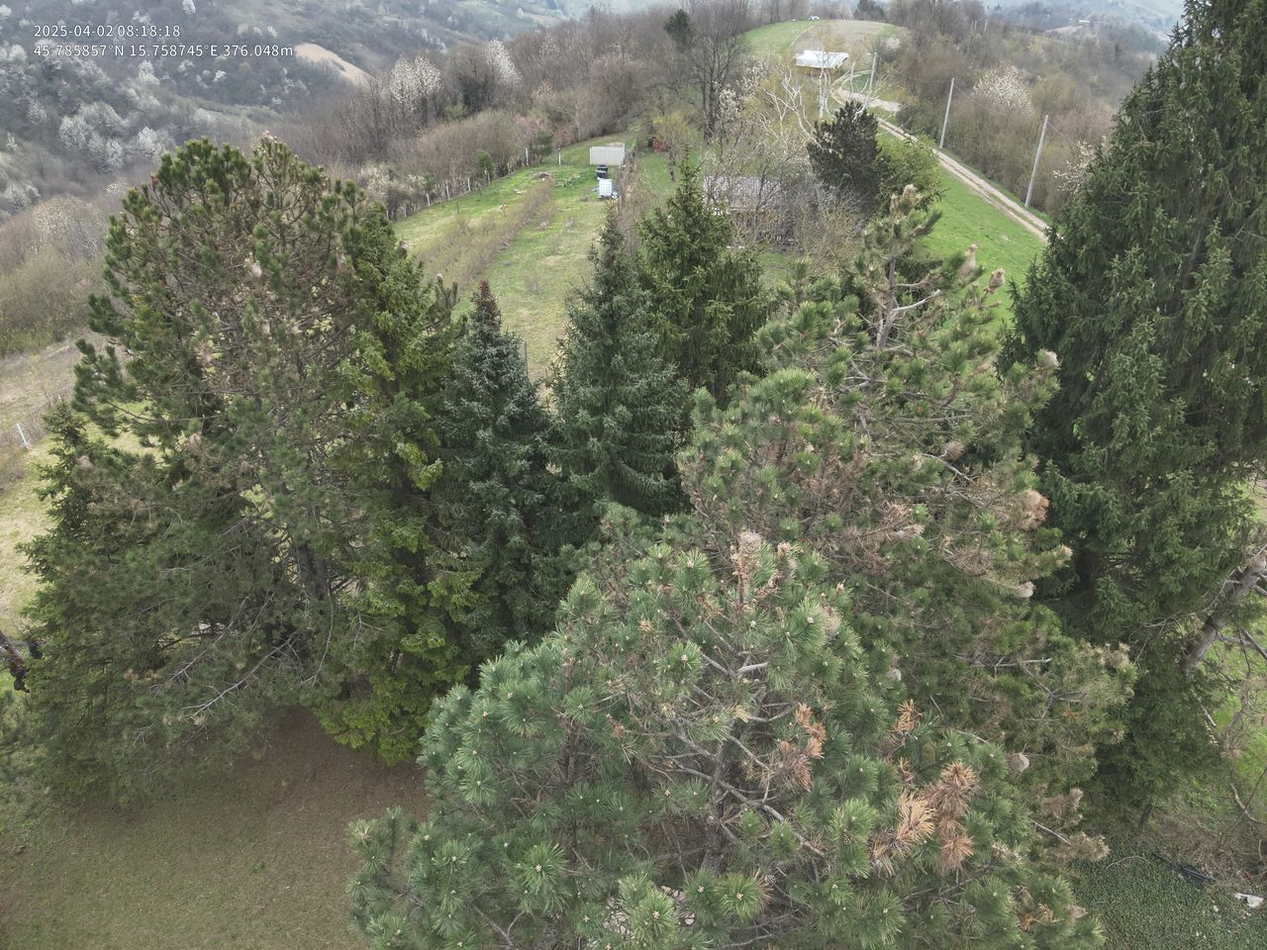thaumatopoea pityocampa jajno gnijezdo: (1014, 489, 1044, 528), (736, 528, 760, 570), (1099, 645, 1129, 674), (952, 257, 979, 280), (1040, 346, 1065, 369), (1011, 750, 1034, 774)
